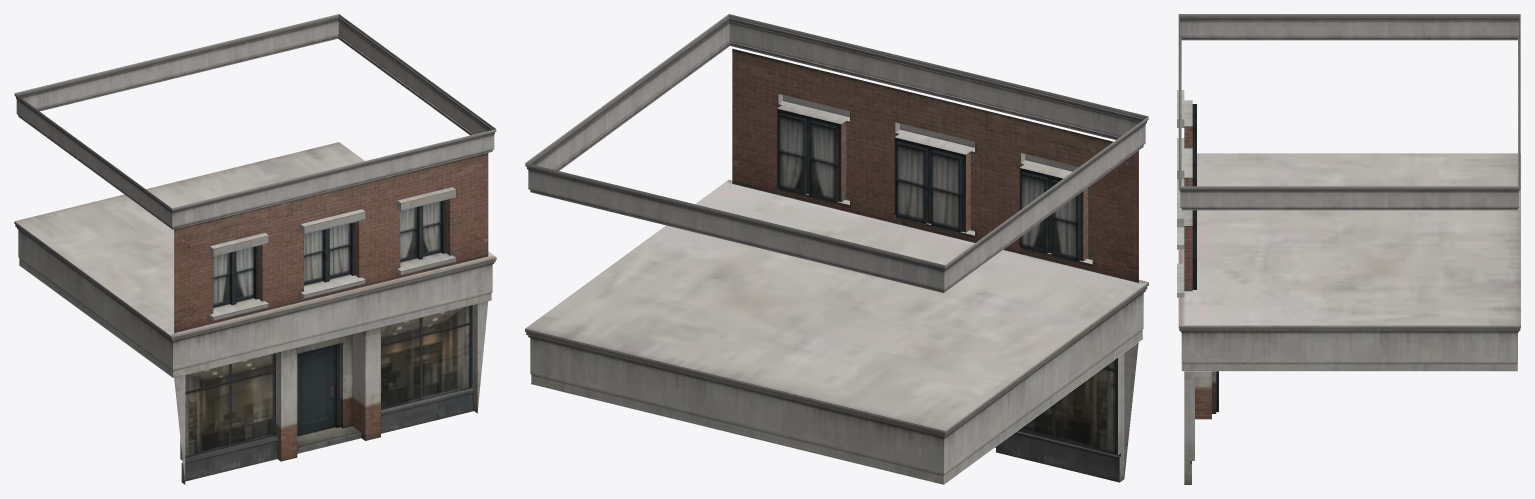
Rendered from sf_shop_1_lod.glb.
3 renders of one model, left to right at view 1: azimuth 30°, elevation 25°; view 2: azimuth 150°, elevation 25°; view 3: azimuth 270°, elevation 25°, orthographic. The views are drawn at different scales.
Parts seen in each view (by area): view 1: storefront 1_storefront 1_0, storefront 1_storefront 1 (side)_0; view 2: storefront 1_storefront 1_0, storefront 1_storefront 1 (side)_0; view 3: storefront 1_storefront 1 (side)_0, storefront 1_storefront 1_0.
Part boxes in pixels (bbox=[...]): storefront 1_storefront 1_0: bbox=[14, 14, 496, 484]; storefront 1_storefront 1 (side)_0: bbox=[15, 142, 495, 377]; storefront 1_storefront 1_0: bbox=[525, 14, 1148, 484]; storefront 1_storefront 1 (side)_0: bbox=[525, 179, 1148, 484]; storefront 1_storefront 1 (side)_0: bbox=[1178, 153, 1520, 371]; storefront 1_storefront 1_0: bbox=[1177, 14, 1520, 484].
Bounding box in the file's own units: 8.42 × 7 × 7.1.
2 materials, 2 textured.
